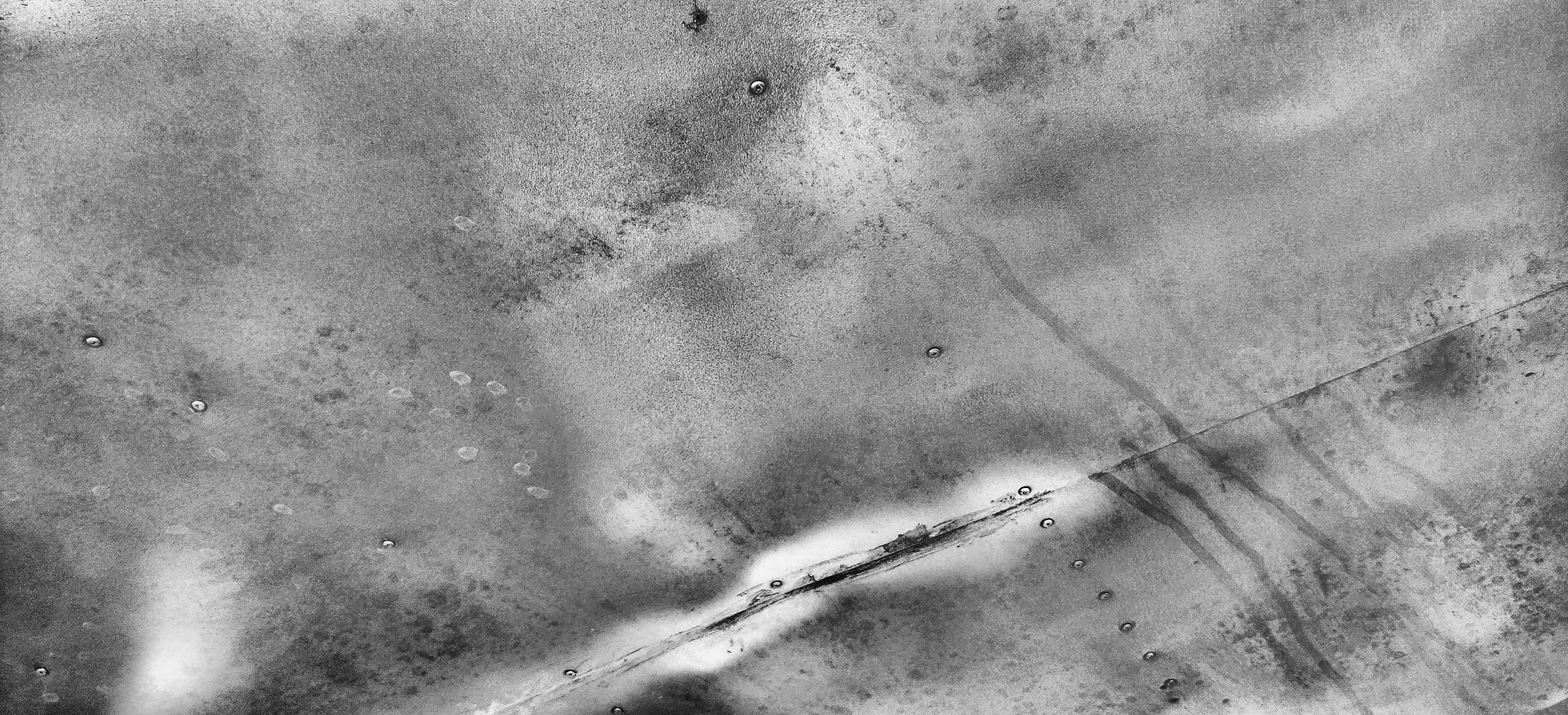dent: (648, 533, 825, 694), (97, 631, 191, 715), (1541, 695, 1568, 713)
missing-head: (695, 11, 707, 23), (1169, 696, 1179, 704)
